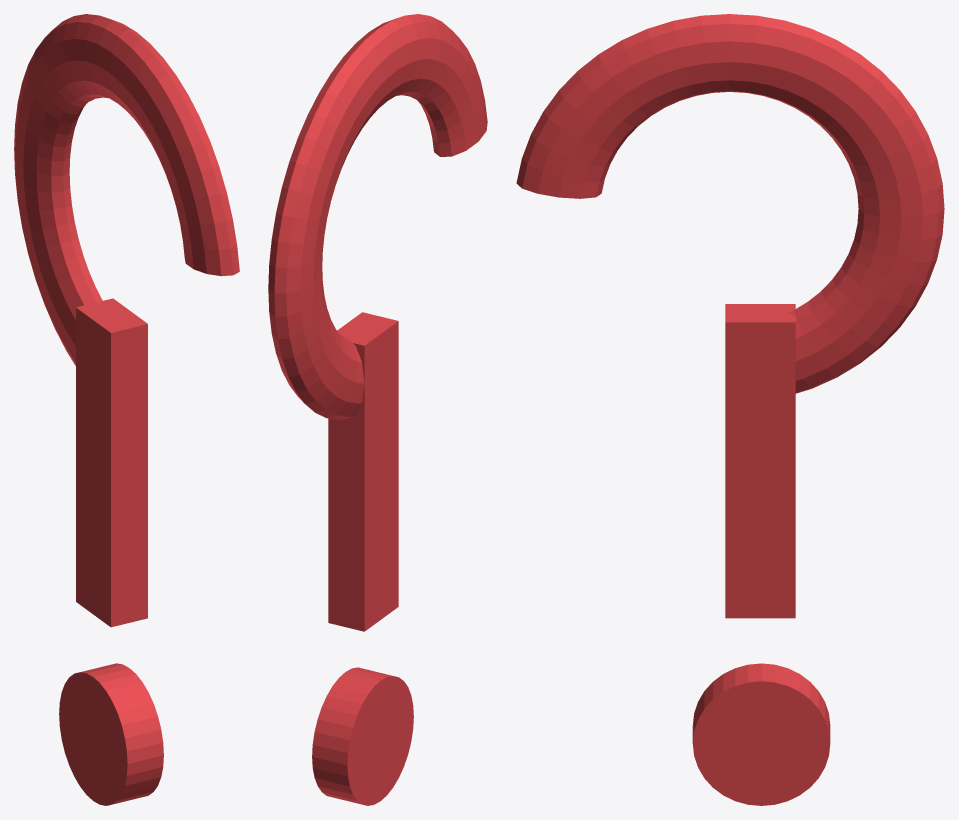
3 renders of one model, left to right at view 1: azimuth 30°, elevation 25°; view 2: azimuth 150°, elevation 25°; view 3: azimuth 270°, elevation 25°, orthographic. The views are drawn at different scales.
Visible parts, largest first — view 1: 立方體, 圓柱體.001; view 2: 立方體, 圓柱體.001; view 3: 立方體, 圓柱體.001.
Boxes of the visible parts, x1,y1,x2,y2 form: 立方體: (14, 14, 239, 627); 圓柱體.001: (59, 663, 163, 805); 立方體: (268, 14, 487, 631); 圓柱體.001: (312, 667, 413, 805); 立方體: (516, 14, 944, 618); 圓柱體.001: (692, 663, 830, 805).
Bounding box in the file's own units: 50.24 × 1005 × 498.
